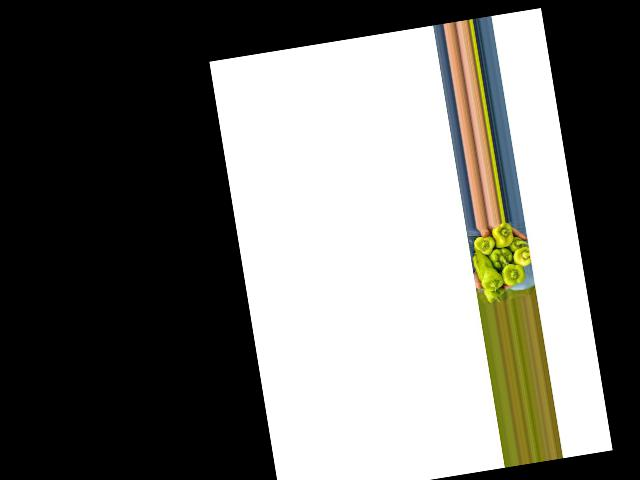bell_pepper: (492, 222, 517, 250)
